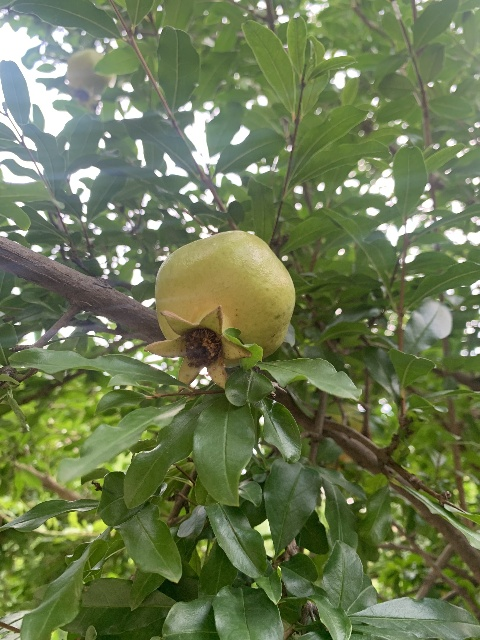mid-growth: (143, 230, 295, 391), (66, 49, 112, 110)
